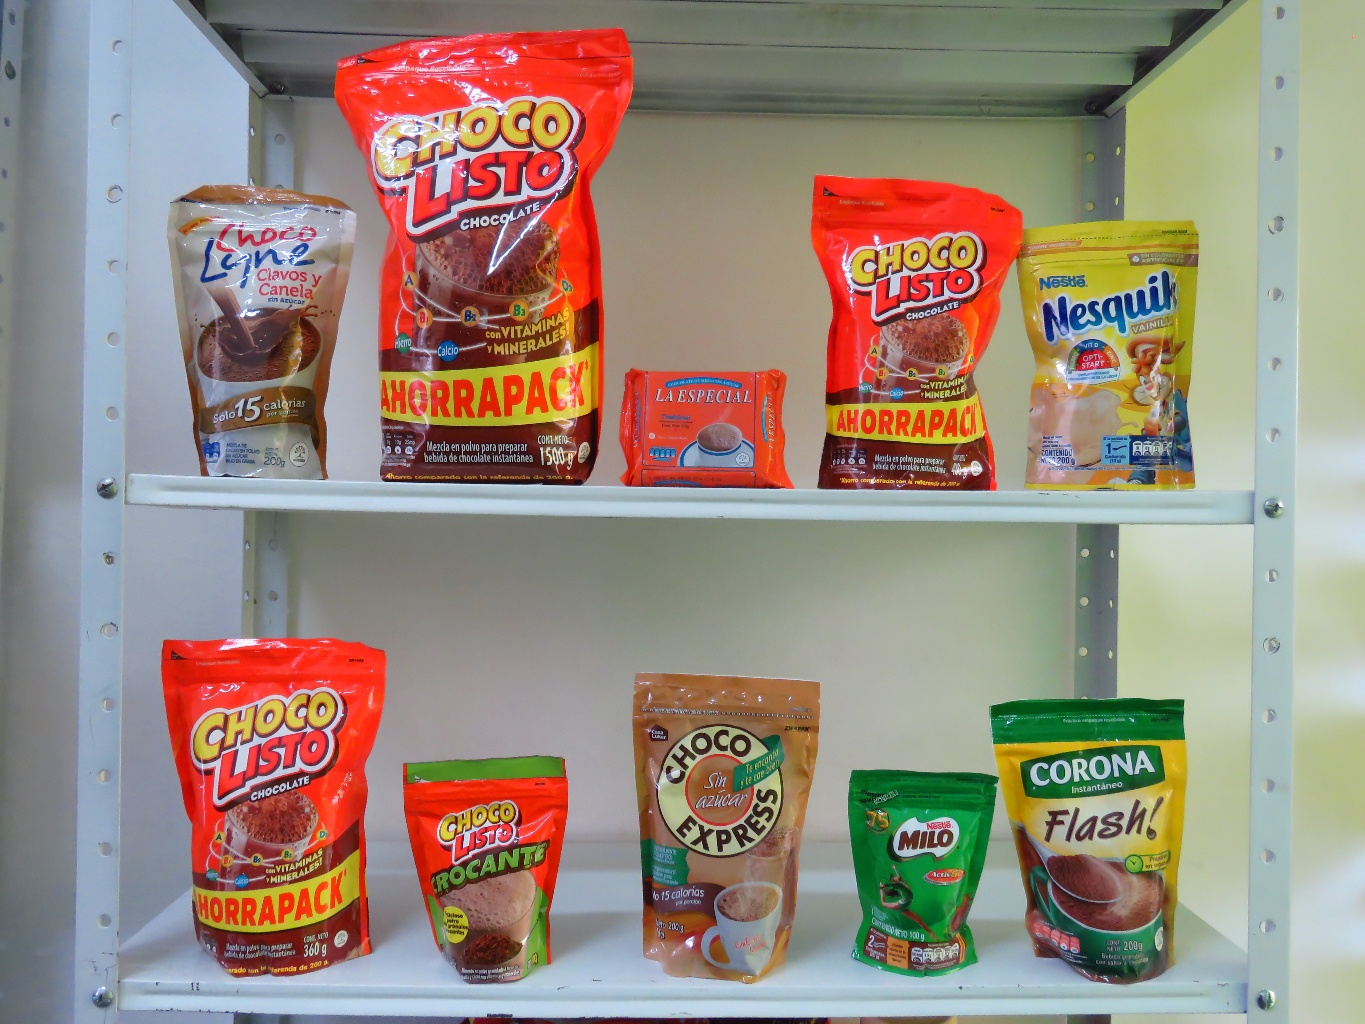COL0170102DYP10000: (386, 740, 596, 993)
COL0170103DYP1,500: (319, 2, 662, 498)
COL0170103DYP36000: (131, 629, 410, 995)
COL0170103DYP40000: (776, 154, 1048, 498)
COL0170203DYP10000: (837, 753, 1011, 989)
COL0170306DYP20000: (996, 191, 1229, 498)
